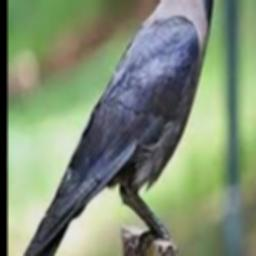Crow: (13, 0, 256, 256)
